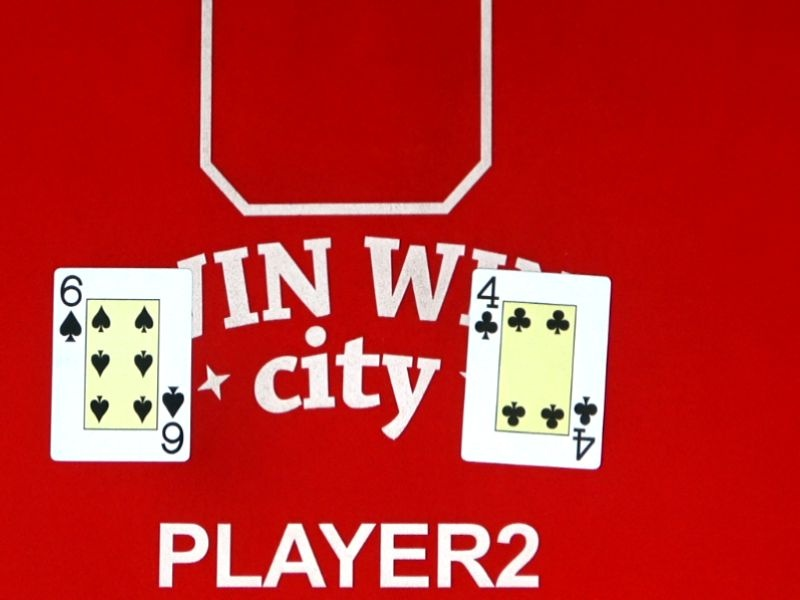4C: (548, 395, 623, 463), (451, 273, 524, 341)
6S: (132, 384, 212, 457), (32, 273, 111, 346)
